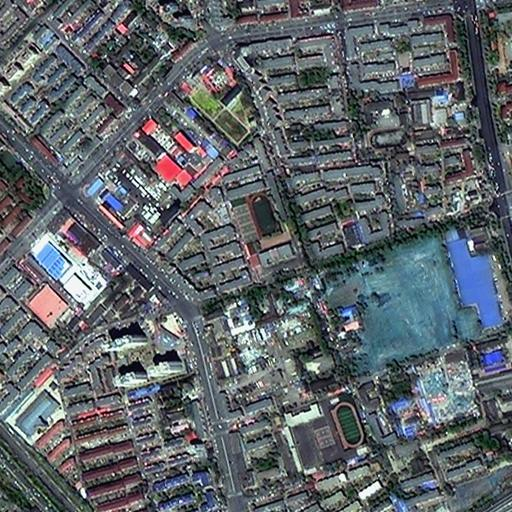school: (280, 388, 372, 475), (230, 190, 304, 278)
